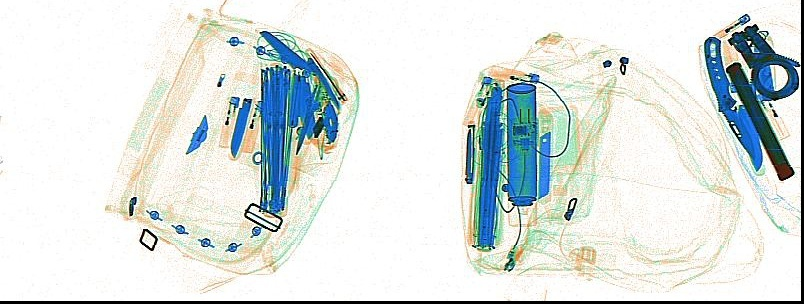handcuffs: (725, 21, 799, 100)
knife: (703, 35, 756, 157), (257, 31, 339, 93), (304, 47, 349, 104), (301, 56, 344, 111), (738, 103, 765, 172), (228, 95, 251, 159), (296, 72, 315, 141), (539, 106, 551, 200), (484, 85, 501, 138), (286, 70, 301, 128), (464, 123, 476, 183)
lighter: (758, 92, 790, 140), (464, 75, 491, 126), (718, 37, 742, 94), (238, 100, 263, 153), (216, 94, 239, 148), (709, 11, 750, 39), (488, 63, 540, 81)
pressure: (504, 81, 537, 209)
scissors: (294, 73, 339, 154)
